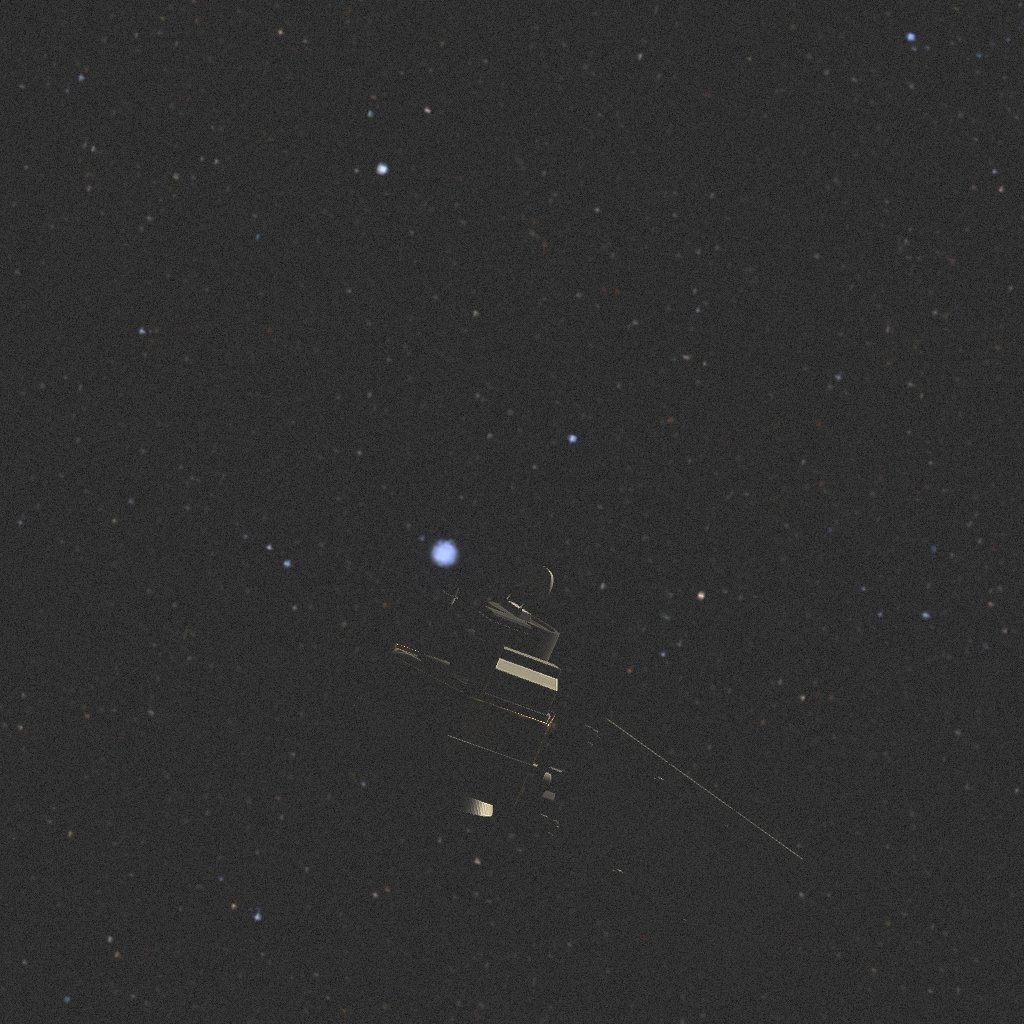earth_observation_sat_1: (343, 561, 804, 1001)
